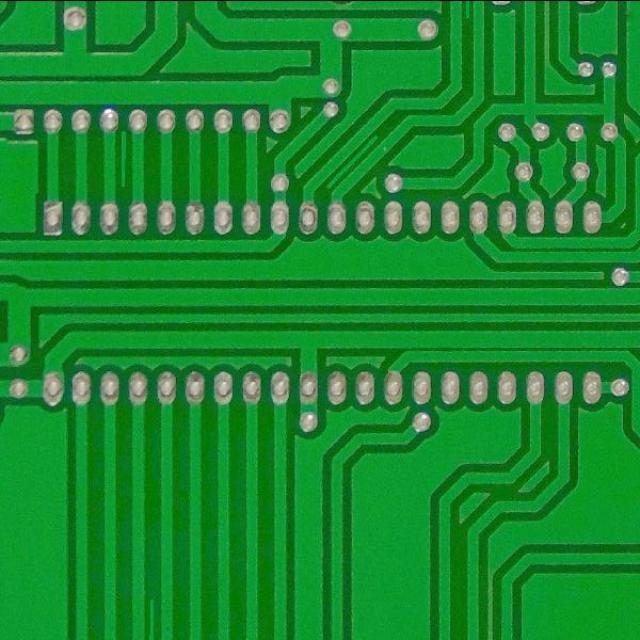Spurious_Cooper: (319, 129, 386, 197), (115, 127, 131, 192), (145, 593, 160, 639), (464, 1, 471, 20)
